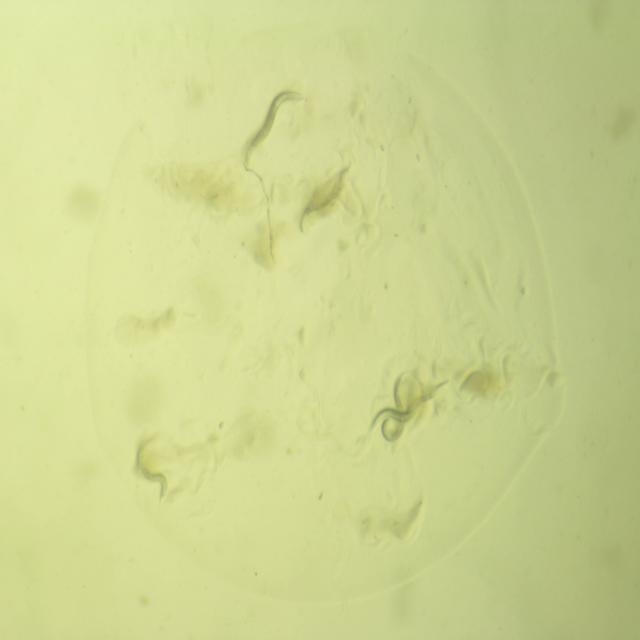worm: (235, 78, 312, 174), (284, 153, 356, 244), (365, 372, 449, 446), (127, 430, 179, 506), (376, 364, 419, 452)
